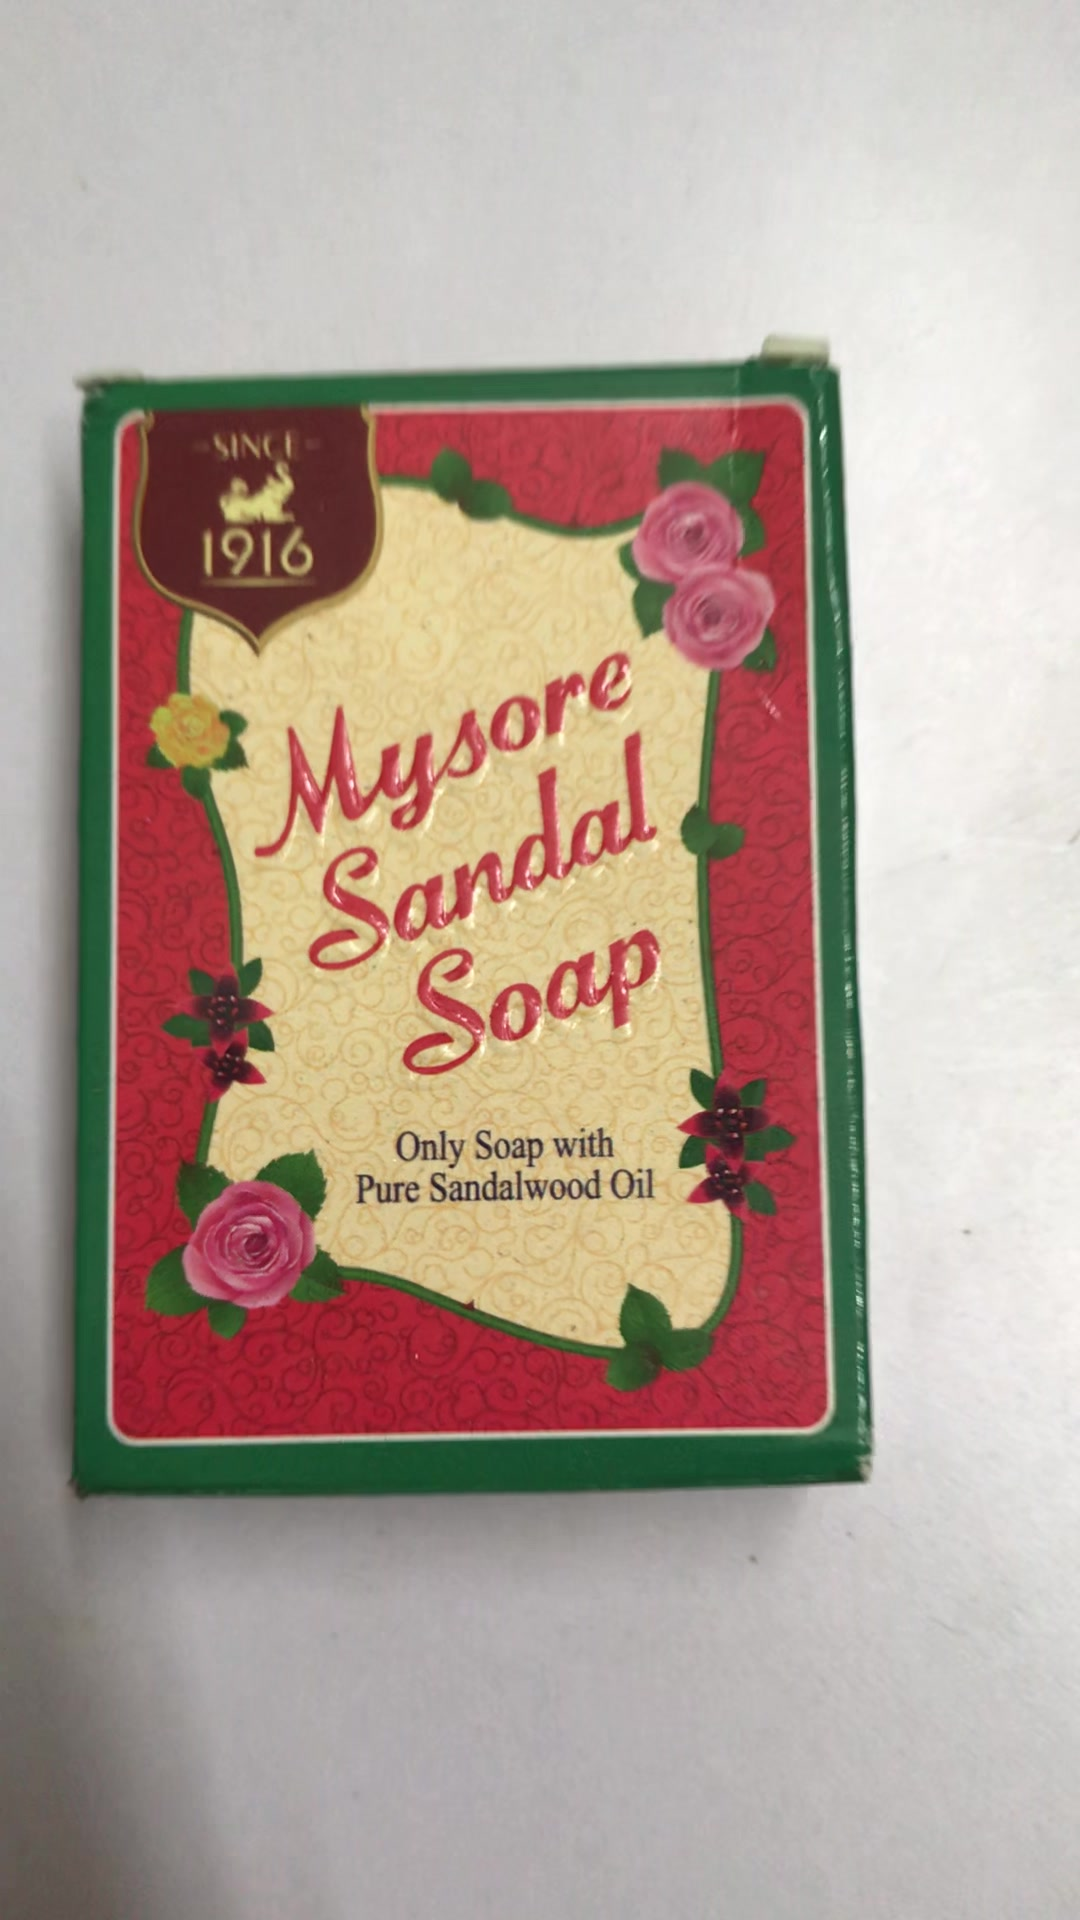mysore sandal soap: (78, 373, 865, 1484)
